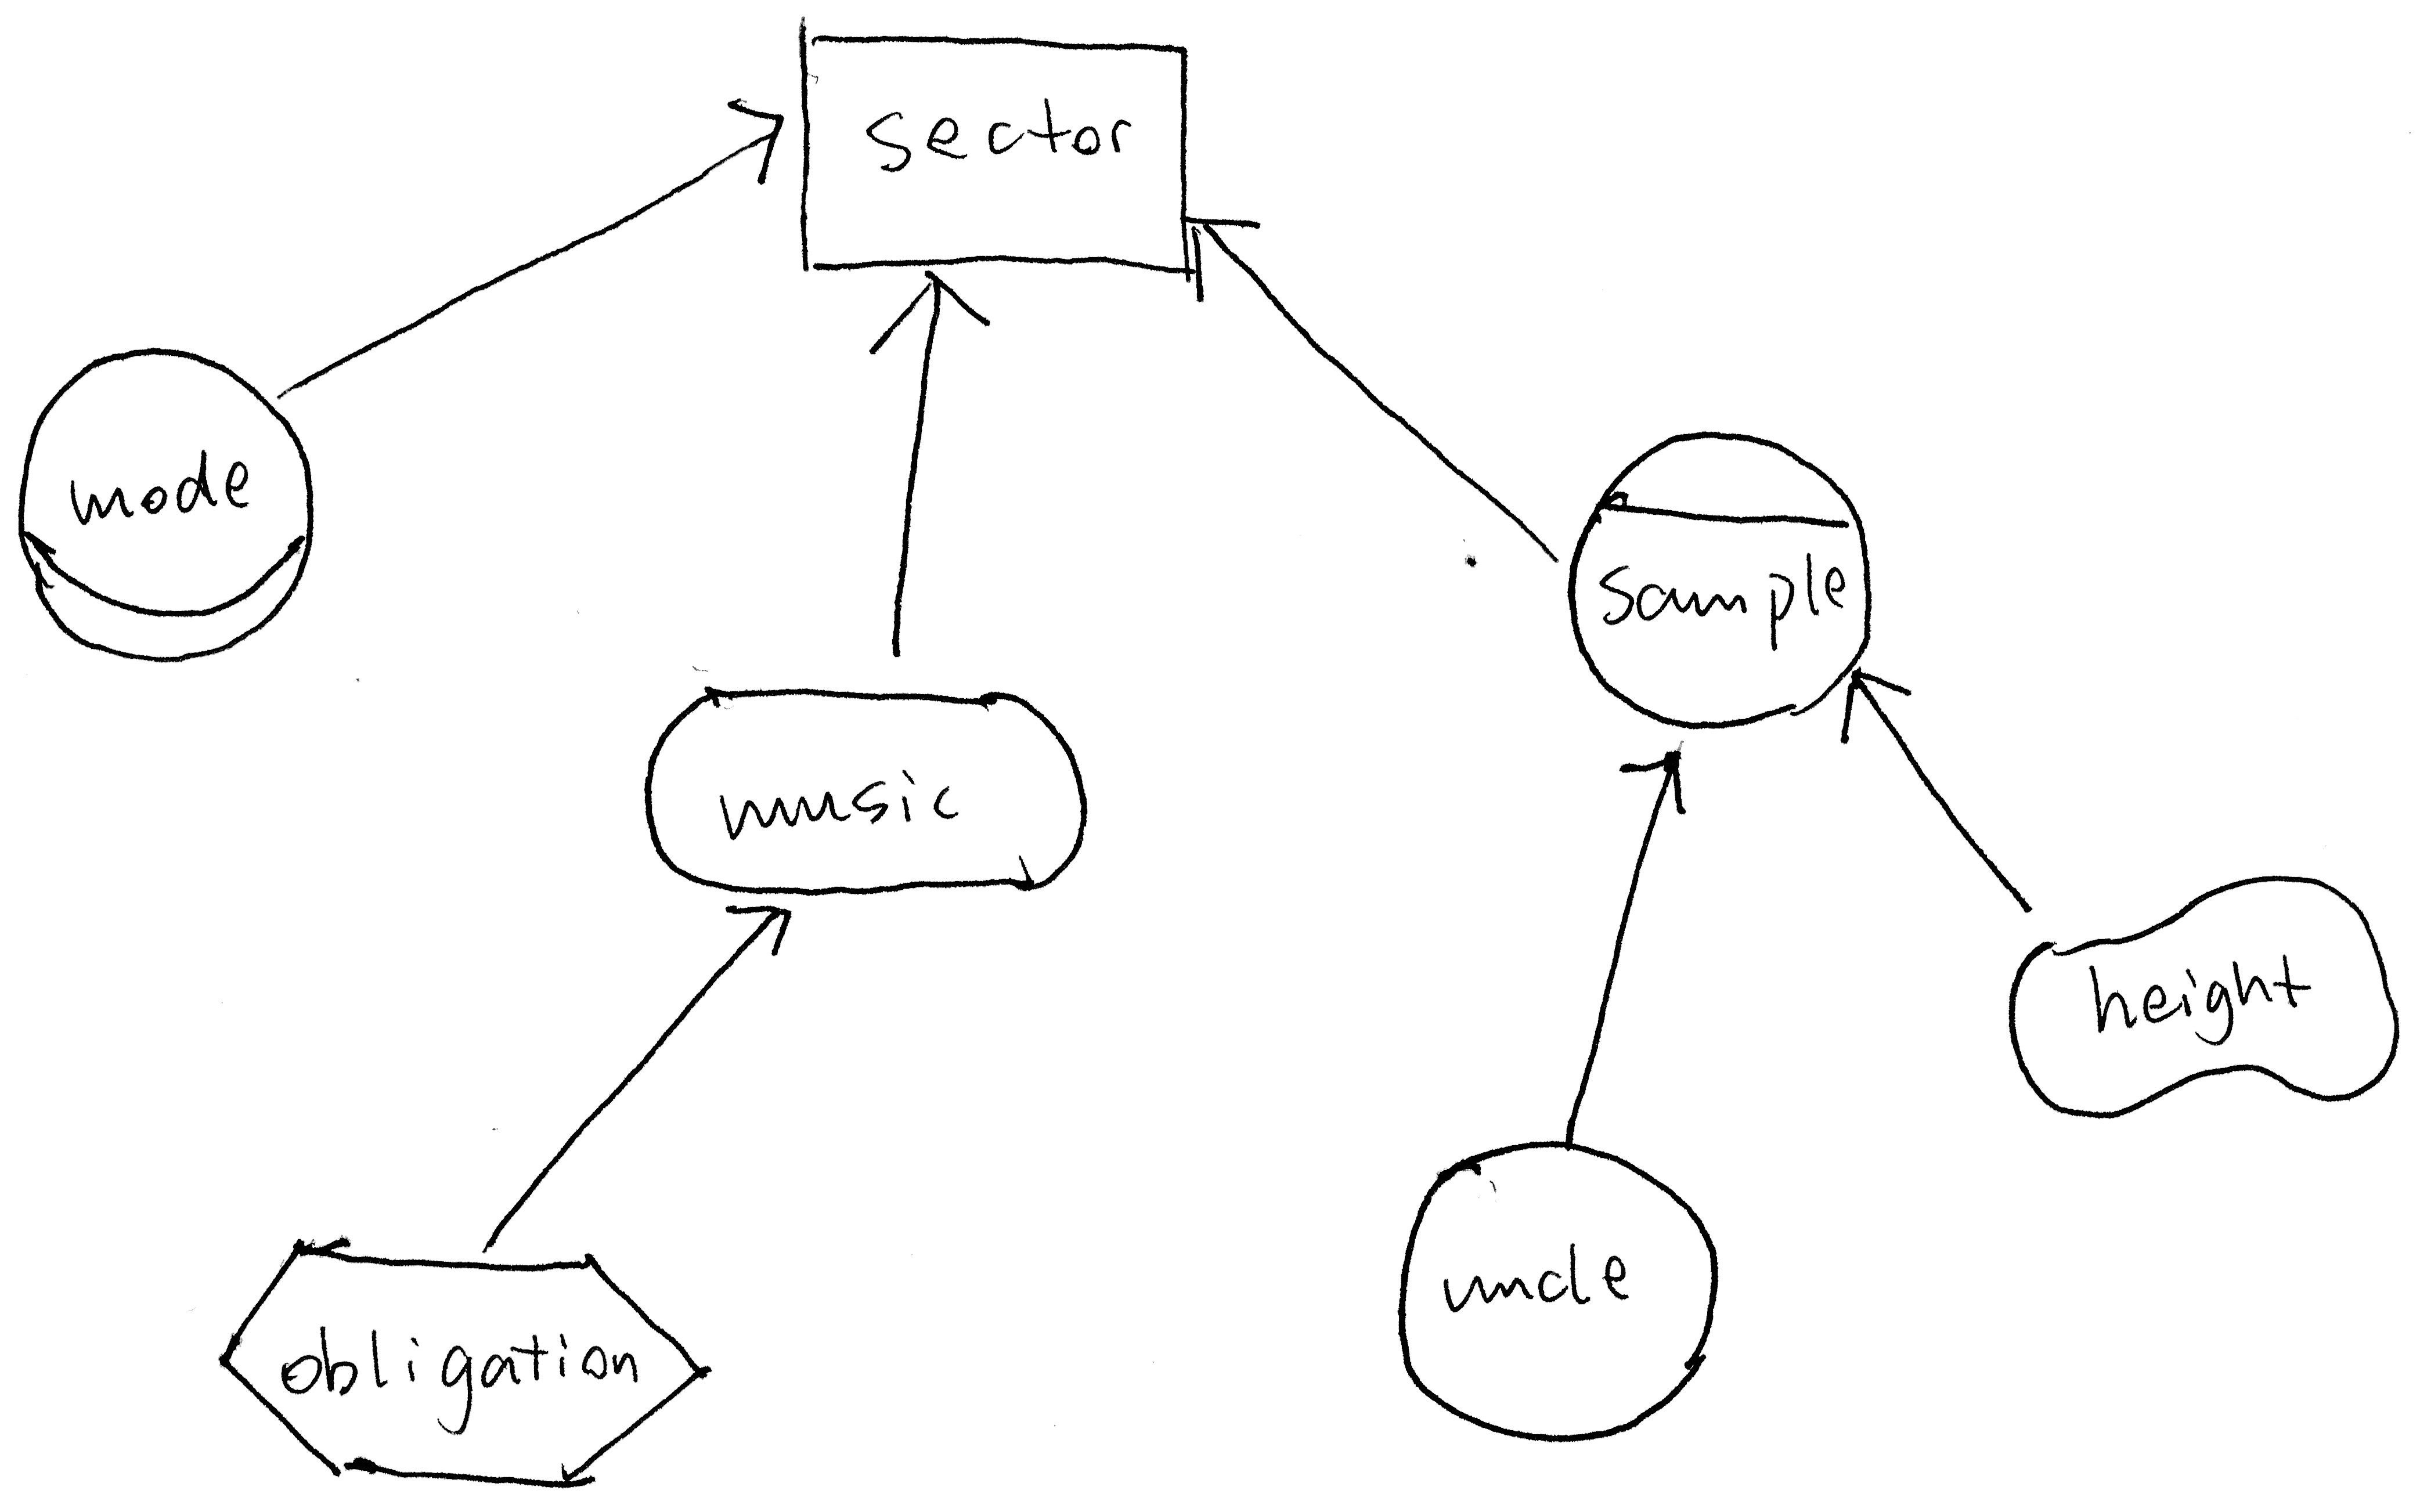actor: (1380, 1125, 1732, 1455)
agent: (1547, 411, 1904, 751)
arrow: (852, 247, 998, 368), (1159, 197, 1277, 308), (1822, 650, 1937, 761), (1608, 730, 1718, 834), (716, 82, 801, 195), (711, 885, 810, 977)
goal: (619, 667, 1106, 927)
quality: (1988, 861, 2417, 1131)
resource: (756, 3, 1227, 286)
role: (2, 336, 331, 679)
task: (195, 1219, 742, 1503)
